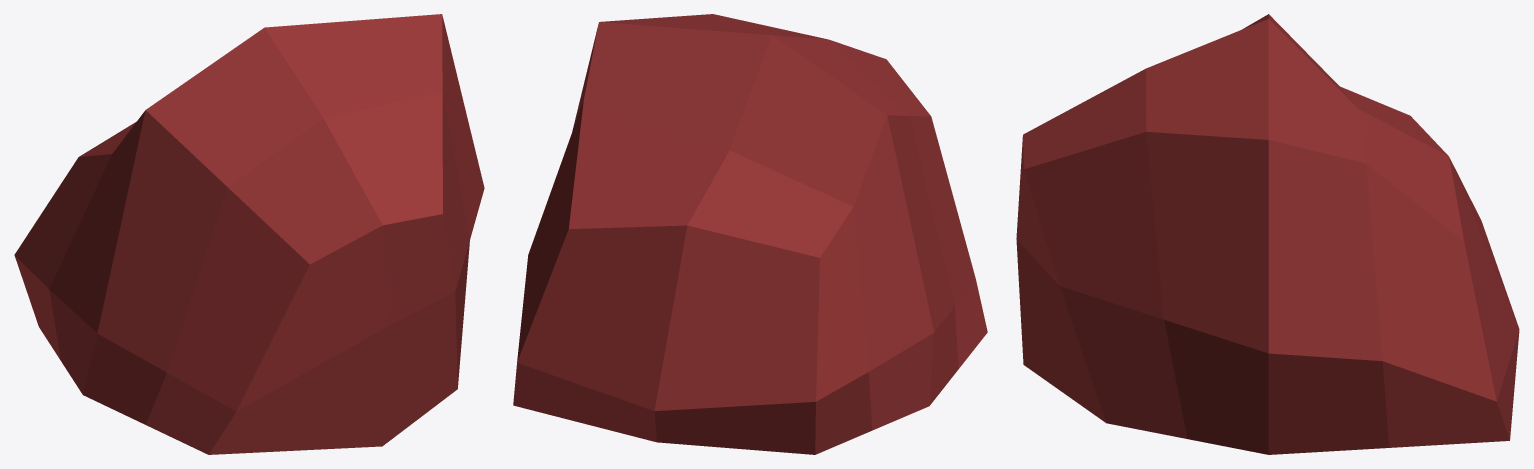
Rendered from Lava_Rock_Debris_1.FBX.
The picture shows the model from 3 angles, left to right: view 1: azimuth 30°, elevation 25°; view 2: azimuth 150°, elevation 25°; view 3: azimuth 270°, elevation 25°; orthographic projection. The views are drawn at different scales.
Visible parts, largest first — view 1: Lava_Rock_Debris_1; view 2: Lava_Rock_Debris_1; view 3: Lava_Rock_Debris_1.
Boxes of the visible parts, left/top/right/bottom form: Lava_Rock_Debris_1: left=14, top=14, right=484, bottom=454; Lava_Rock_Debris_1: left=513, top=14, right=987, bottom=454; Lava_Rock_Debris_1: left=1016, top=14, right=1519, bottom=454.
Size of the model in its own units: 6.23 by 5.05 by 6.66.
